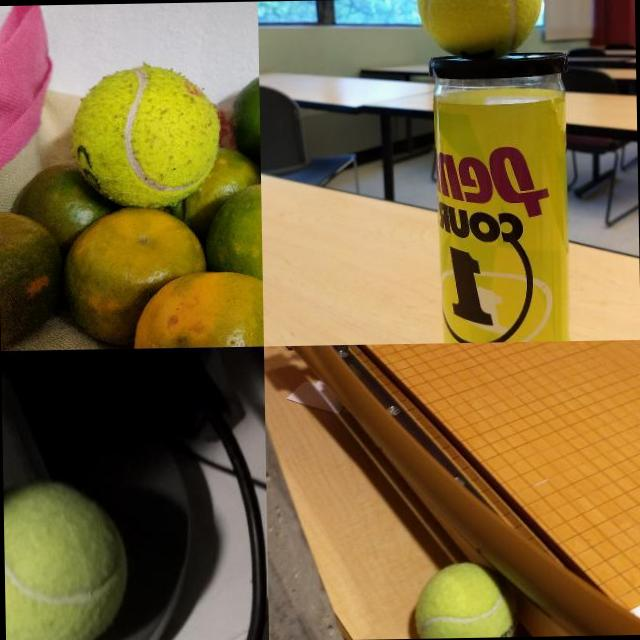Tennis Ball: (70, 64, 221, 208), (3, 476, 130, 640), (412, 558, 520, 638), (414, 0, 545, 60)
